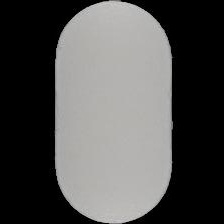33261-818: (0, 0, 224, 224)
